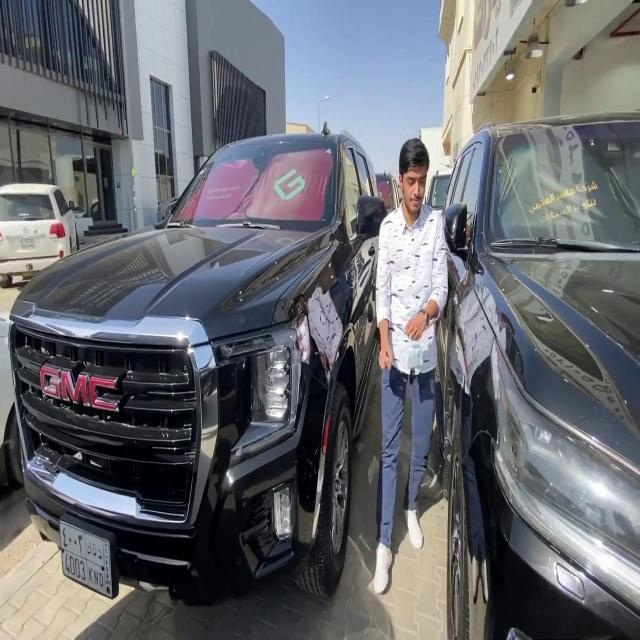license_plate: (52, 510, 114, 600)
